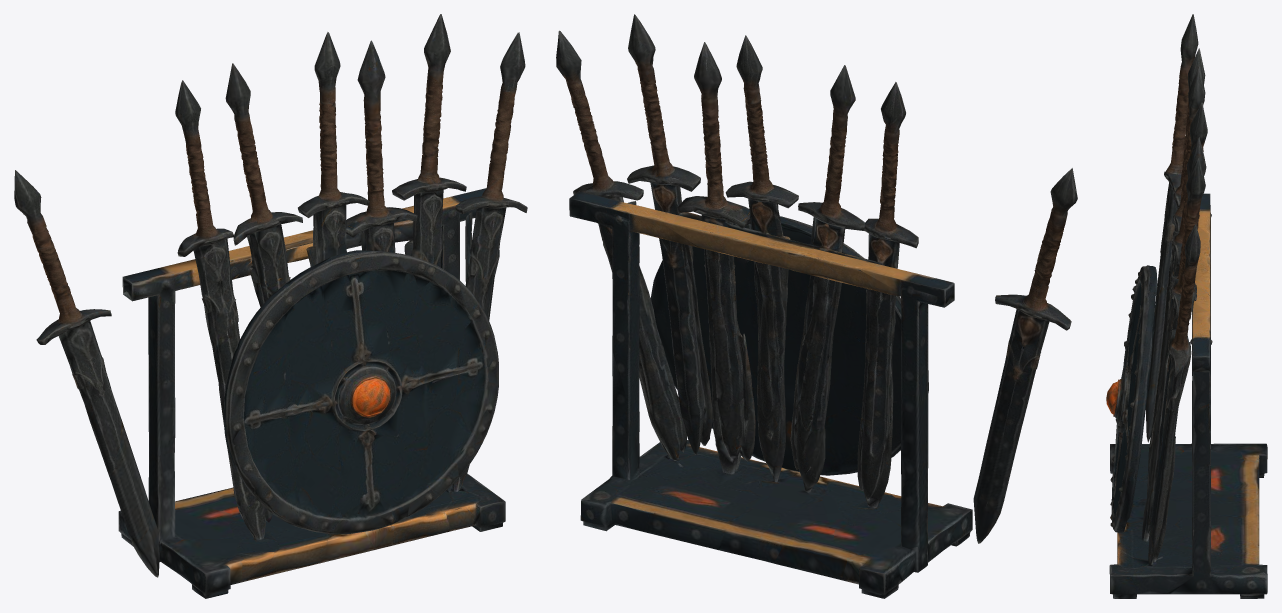
File: ironcrownWeaponRack.c6955087.glb
3 views of the same model, side by side, from view 1: azimuth 30°, elevation 25°; view 2: azimuth 150°, elevation 25°; view 3: azimuth 270°, elevation 25° (orthographic). The views are drawn at different scales.
Bounding box in the file's own units: 1.9 × 1.74 × 0.5766.
1 material, 1 textured.
